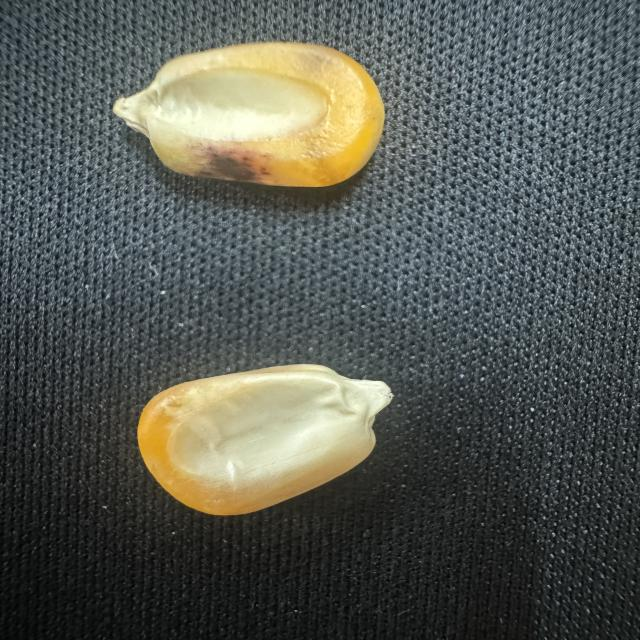Bad-Seed: (96, 32, 396, 196)
Good-Seed: (130, 346, 408, 530)
